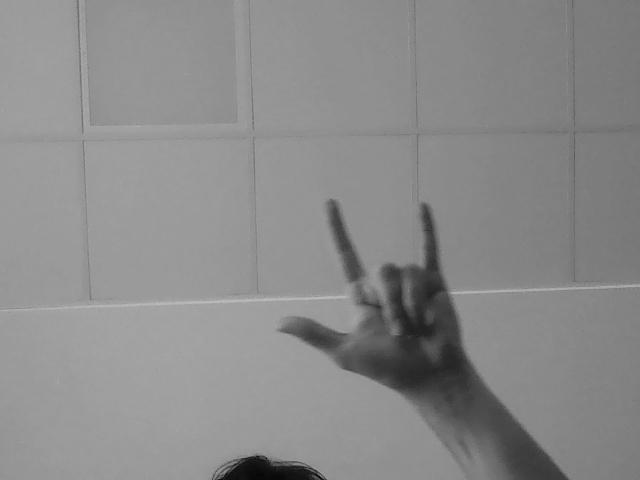I_Love_You: (264, 175, 518, 391)
